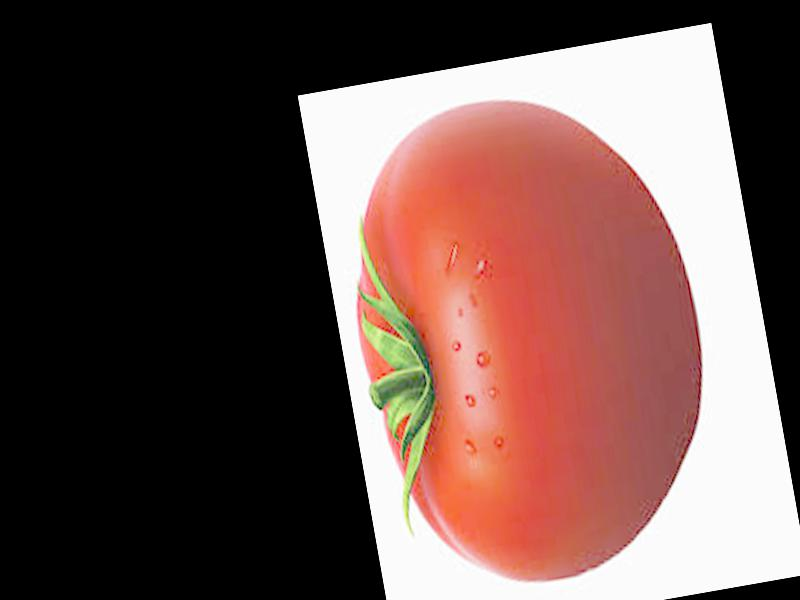Tomato: (332, 128, 738, 600)
